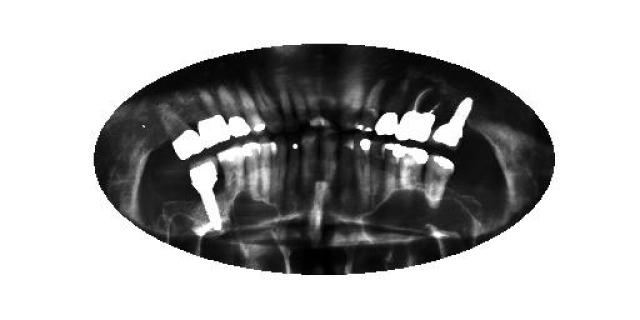Fillings: (161, 105, 205, 161), (189, 92, 229, 150), (425, 154, 456, 208), (355, 130, 373, 209), (402, 146, 430, 196), (218, 145, 242, 201), (242, 142, 264, 202), (375, 88, 400, 138), (381, 144, 405, 196), (222, 92, 250, 136), (240, 84, 264, 134)
Implant: (395, 88, 441, 142), (190, 161, 221, 235), (433, 96, 472, 148)
